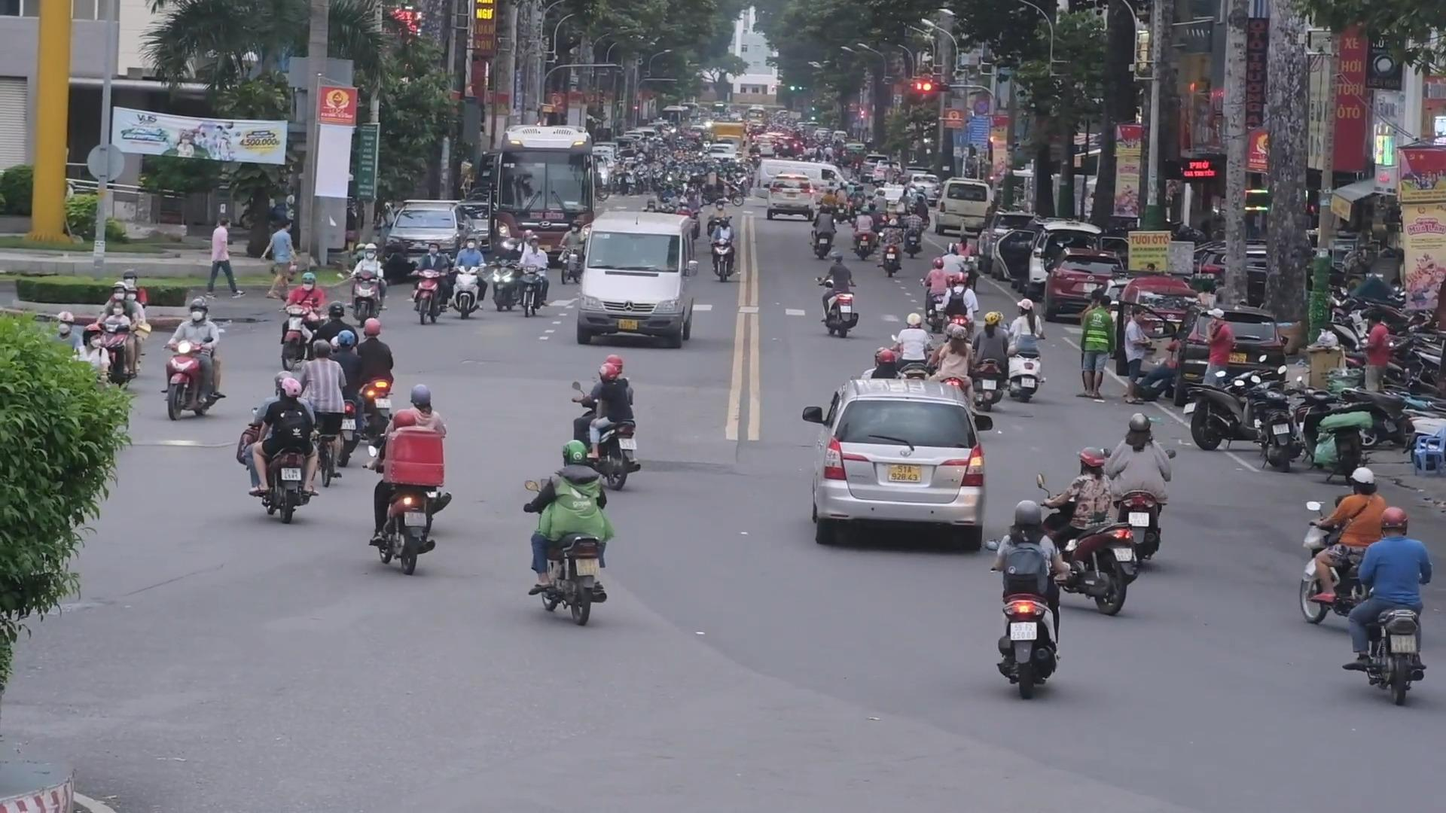bicyclist: (299, 339, 348, 489), (557, 219, 584, 285)
driver: (1334, 505, 1435, 711), (981, 498, 1074, 701), (1034, 446, 1143, 617), (520, 439, 616, 630), (1296, 466, 1393, 628), (362, 409, 452, 576), (236, 370, 319, 525), (1105, 412, 1178, 564), (568, 353, 644, 495), (161, 296, 226, 421), (93, 268, 153, 390), (356, 317, 395, 446), (328, 329, 363, 469), (277, 271, 325, 372), (1003, 298, 1047, 403), (814, 250, 859, 338), (971, 311, 1009, 413), (345, 243, 387, 328), (511, 234, 552, 319), (449, 234, 487, 319), (412, 240, 449, 326), (891, 313, 935, 380), (487, 236, 523, 313), (708, 216, 735, 283)
helmet: (1075, 446, 1105, 476), (1014, 500, 1042, 532), (1380, 506, 1407, 538), (1350, 467, 1374, 495), (563, 440, 587, 467), (277, 377, 302, 402), (1129, 413, 1151, 438), (83, 324, 104, 350), (189, 296, 208, 323), (393, 409, 416, 431), (410, 384, 430, 409), (56, 311, 75, 336), (599, 362, 617, 384), (363, 318, 381, 340), (337, 330, 355, 351), (110, 281, 129, 300), (877, 350, 895, 369), (328, 300, 344, 320), (951, 326, 968, 343), (301, 272, 316, 291), (906, 313, 922, 329), (985, 311, 1000, 326), (953, 272, 967, 287)
no-helmet: (312, 339, 333, 359), (1017, 298, 1034, 316)
